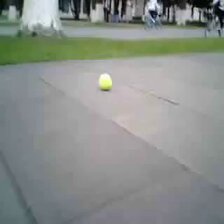tennis: (97, 73, 113, 90)
